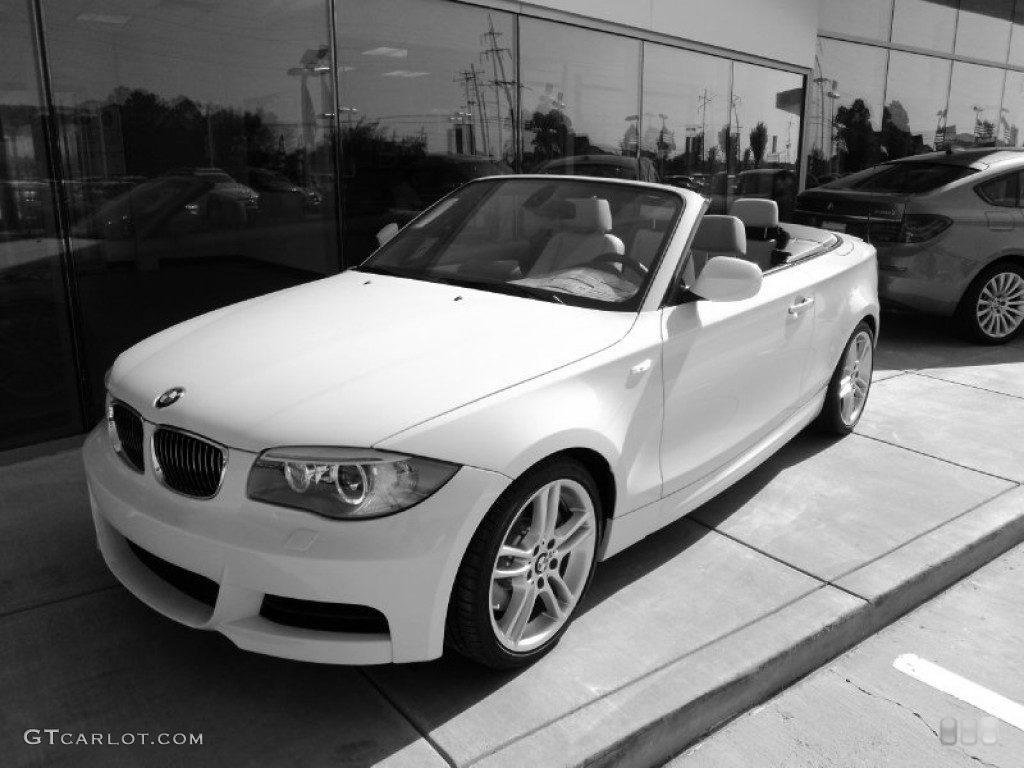car: (76, 170, 884, 681)
